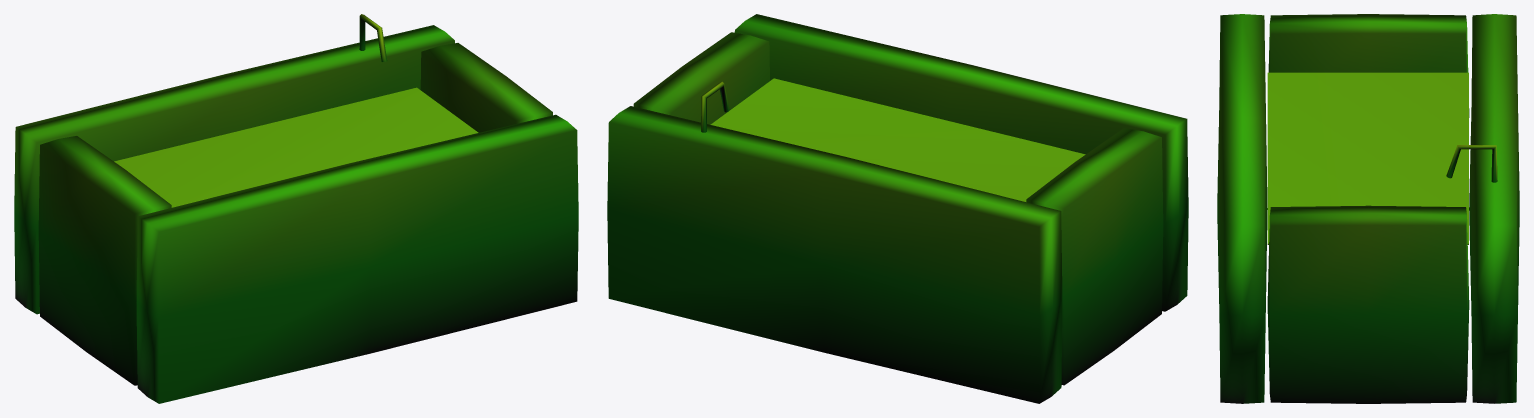
Rendered from quench_trough.glb.
3 views of the same model, side by side, from view 1: azimuth 30°, elevation 25°; view 2: azimuth 150°, elevation 25°; view 3: azimuth 270°, elevation 25° (orthographic). The views are drawn at different scales.
Parts seen in each view (by area): view 1: quench_trough; view 2: quench_trough; view 3: quench_trough.
Boxes of the visible parts, x1=… form: quench_trough: x1=14, y1=14, x2=578, y2=403; quench_trough: x1=607, y1=14, x2=1188, y2=403; quench_trough: x1=1217, y1=14, x2=1519, y2=403.
Size of what is drawn, in the model's own units: 2 by 0.9604 by 1.2.
